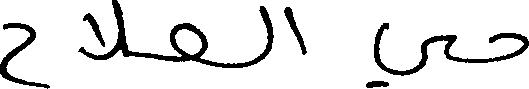ا: (283, 5, 305, 56)
ح: (0, 21, 47, 88), (489, 30, 527, 62)
ص: (170, 20, 206, 65)
ل: (259, 3, 272, 61)
لا: (80, 0, 124, 60)
ي: (367, 21, 450, 88)
